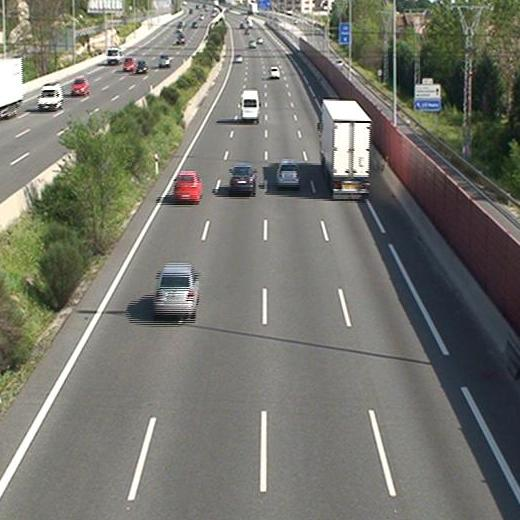car: (153, 264, 200, 312), (174, 172, 202, 201), (229, 164, 256, 193), (276, 160, 299, 187), (269, 66, 280, 78), (234, 53, 242, 62), (247, 40, 255, 47)
truck: (319, 99, 371, 200)
van: (241, 90, 259, 120)
